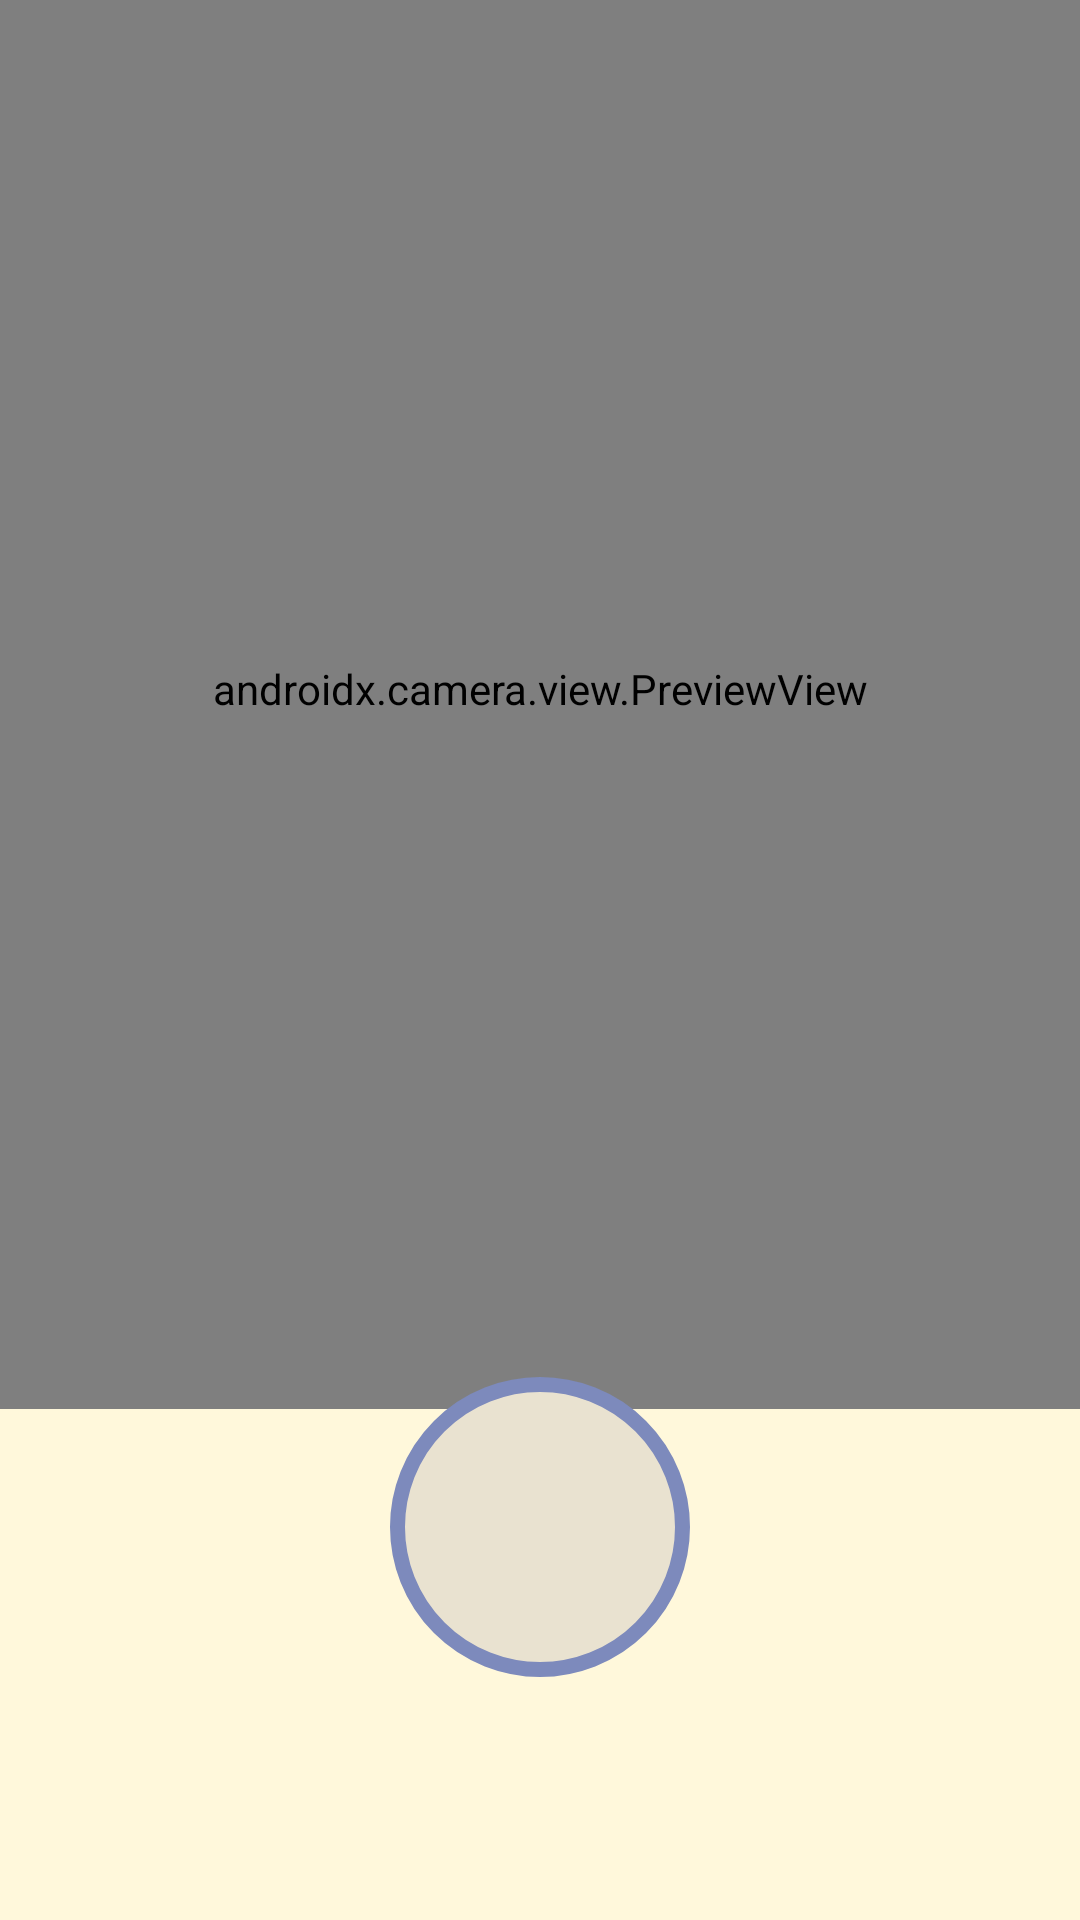

Screen size 1080px x 1920px. Icon name, then its box in pixels as [left=x1, top=y1, right=x2, bottom=y2]:
shutter: [left=390, top=1377, right=690, bottom=1677]
